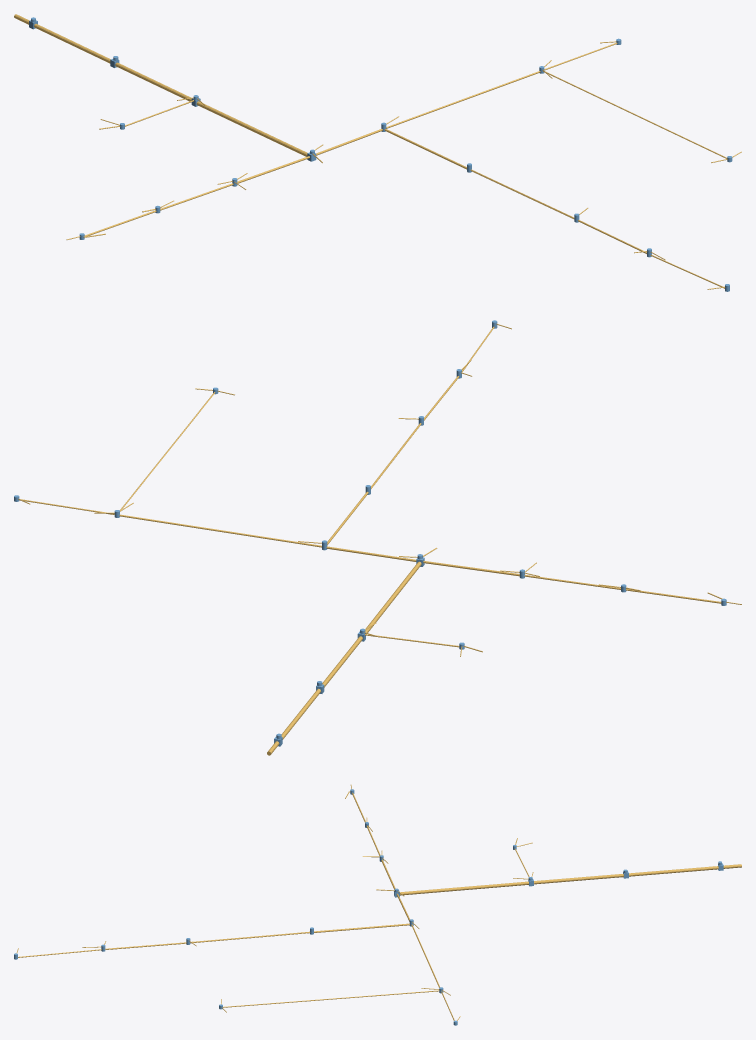
The model's file is 500125-CSSP001-780-XX-MD-ST-000220.glb.
3 views of the same model, one above another, from view 1: azimuth 30°, elevation 25°; view 2: azimuth 150°, elevation 25°; view 3: azimuth 270°, elevation 25° (orthographic). The views are drawn at different scales.
Parts seen in each view (by area): view 1: 500125-CSSP001-780-XX-MD-ST-000220#TUB009; view 2: no part large enough to name; view 3: 500125-CSSP001-780-XX-MD-ST-000220#TUB009.
Part boxes in pixels (box(x1,y1,x2,y2)): 500125-CSSP001-780-XX-MD-ST-000220#TUB009: box(196, 101, 307, 156); 500125-CSSP001-780-XX-MD-ST-000220#TUB009: box(400, 881, 528, 895).
Bounding box in the file's own units: 285 × 5.22 × 368.
